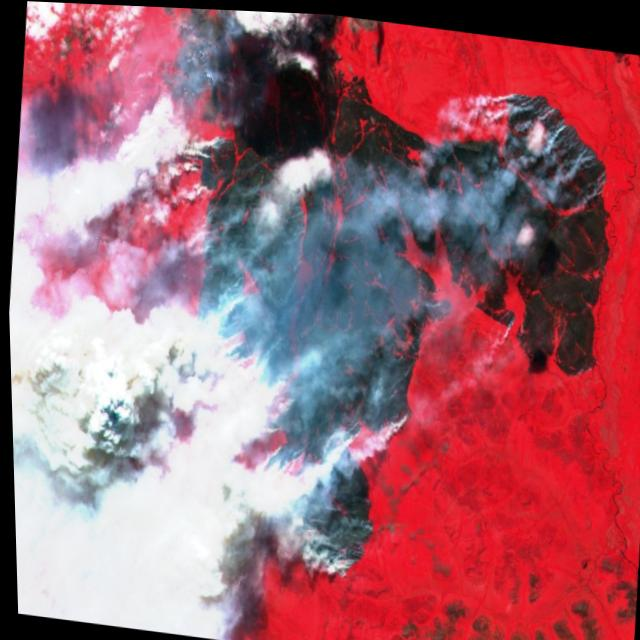fire: (120, 4, 631, 607)
